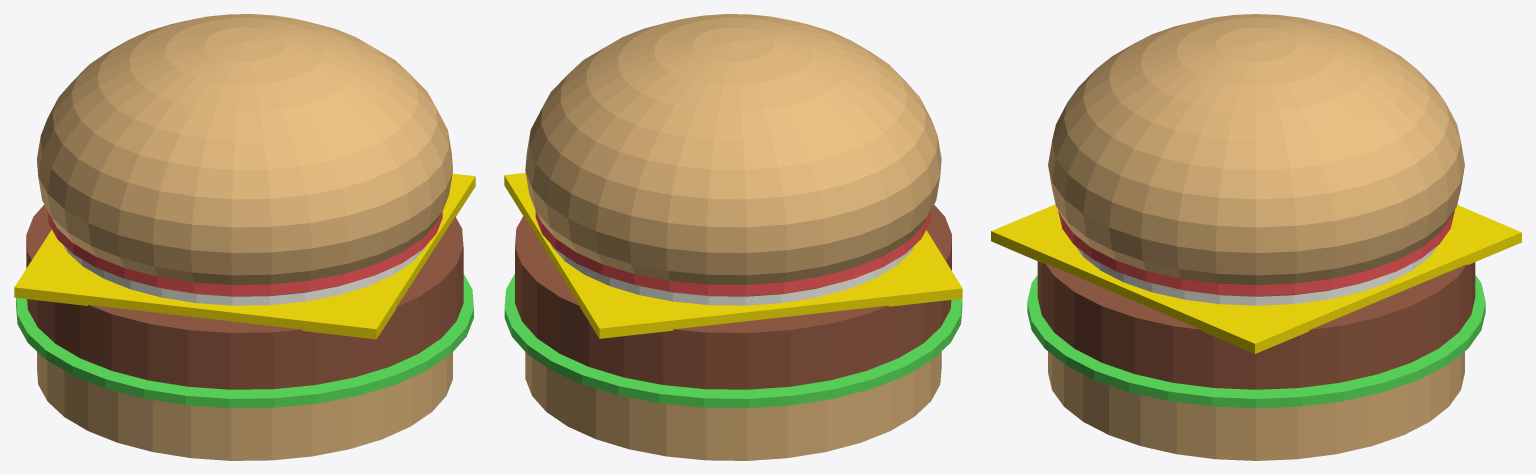
Rendered from burger.glb.
3 renders of one model, left to right at view 1: azimuth 30°, elevation 25°; view 2: azimuth 150°, elevation 25°; view 3: azimuth 270°, elevation 25°, orthographic.
Visible parts, largest first — view 1: Sphere, Cylinder.002, Cylinder, Cube, Cylinder.001, Cylinder.004, Cylinder.003; view 2: Sphere, Cylinder.002, Cylinder, Cube, Cylinder.001, Cylinder.004, Cylinder.003; view 3: Sphere, Cylinder.002, Cylinder, Cube, Cylinder.001, Cylinder.004, Cylinder.003.
Boxes of the visible parts, bbox=[...] form: Sphere: bbox=[37, 14, 452, 296]; Cylinder.002: bbox=[26, 204, 463, 389]; Cylinder: bbox=[37, 352, 452, 460]; Cube: bbox=[14, 173, 475, 339]; Cylinder.001: bbox=[16, 274, 473, 408]; Cylinder.004: bbox=[47, 211, 442, 295]; Cylinder.003: bbox=[63, 244, 427, 305]; Sphere: bbox=[525, 14, 941, 296]; Cylinder.002: bbox=[515, 204, 951, 389]; Cylinder: bbox=[525, 351, 941, 460]; Cube: bbox=[504, 173, 962, 338]; Cylinder.001: bbox=[504, 273, 962, 408]; Cylinder.004: bbox=[535, 211, 930, 295]; Cylinder.003: bbox=[551, 244, 914, 305]; Sphere: bbox=[1048, 14, 1464, 296]; Cylinder.002: bbox=[1037, 204, 1475, 389]; Cylinder: bbox=[1048, 351, 1464, 460]; Cube: bbox=[991, 204, 1521, 353]; Cylinder.001: bbox=[1027, 275, 1485, 408]; Cylinder.004: bbox=[1058, 211, 1454, 295]; Cylinder.003: bbox=[1075, 246, 1437, 305].
Bounding box in the file's own units: 2.55 × 1.75 × 2.55.
